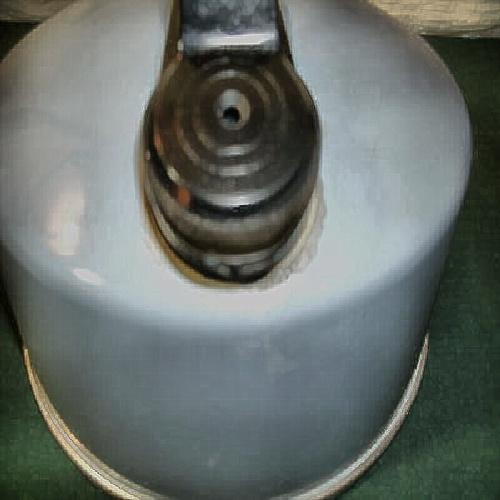kettle: (19, 12, 455, 478)
